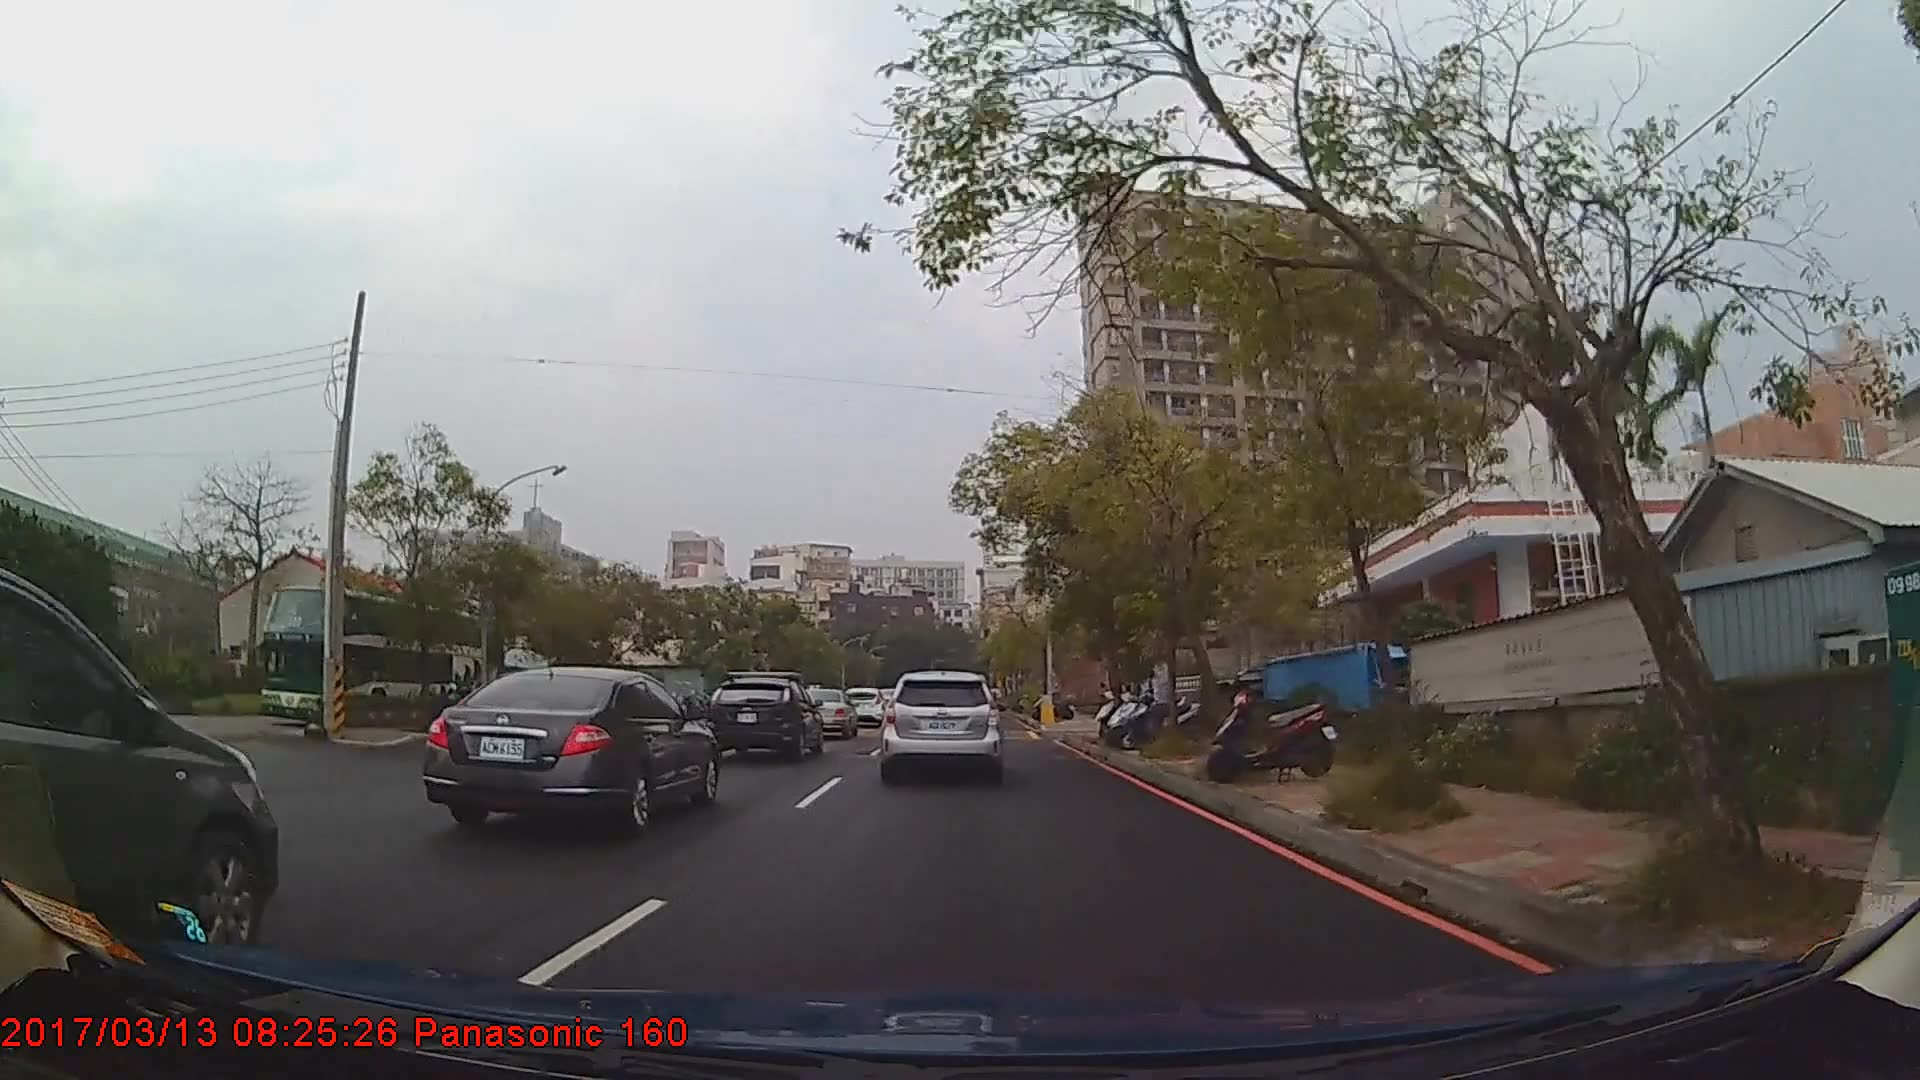vehicle: (0, 563, 278, 961), (423, 662, 719, 831), (256, 582, 481, 735), (880, 669, 1002, 781), (705, 669, 822, 761), (798, 684, 858, 738), (839, 686, 885, 727)
